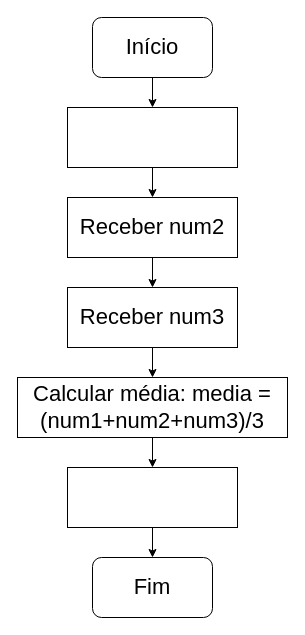
The diagram is 305 pixels wide and 635 high, and some of its shapes have lost their labels. Each missing label, with the centre of its shape:
"Imprimir média" belongs at [152,497].
"Receber num1" belongs at [152,137].
